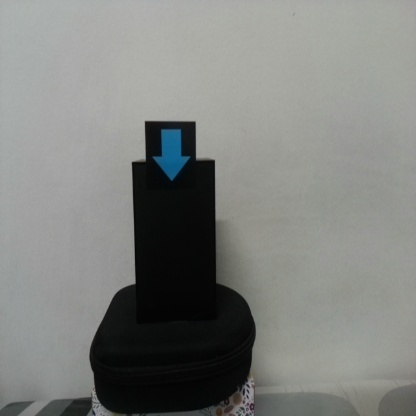id_2: (145, 122, 197, 188)
